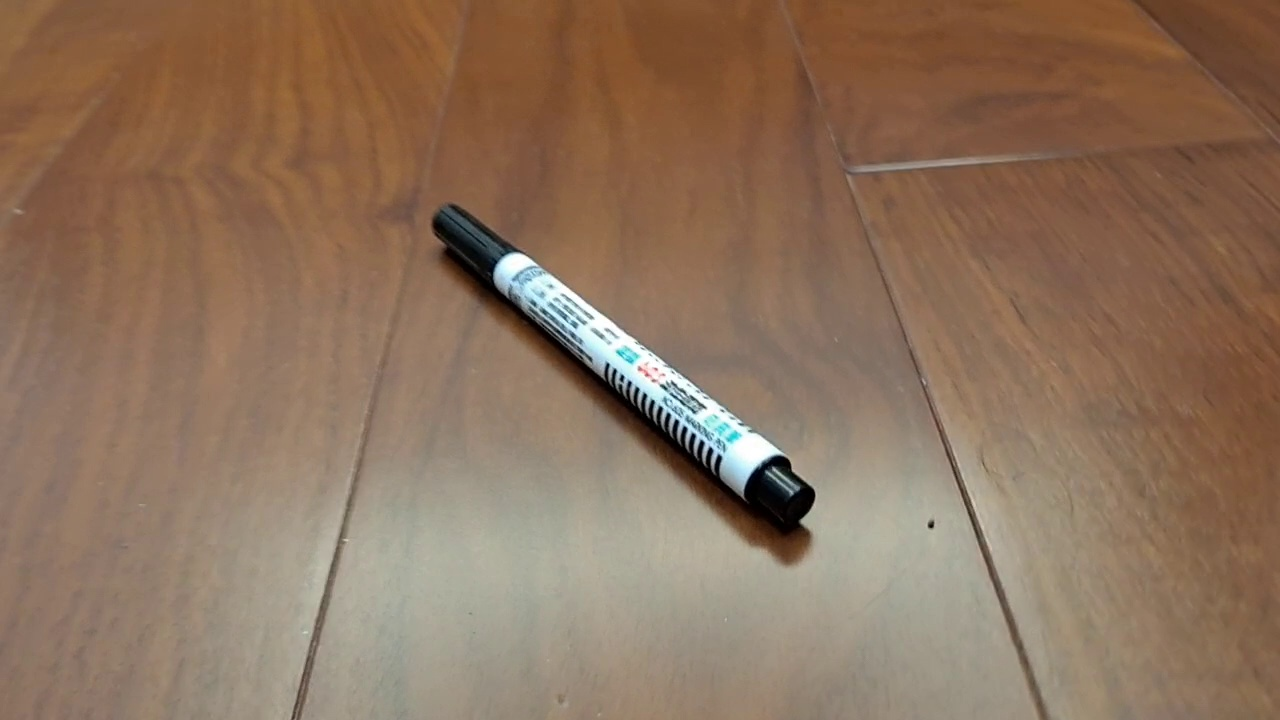pen: (430, 202, 816, 524)
